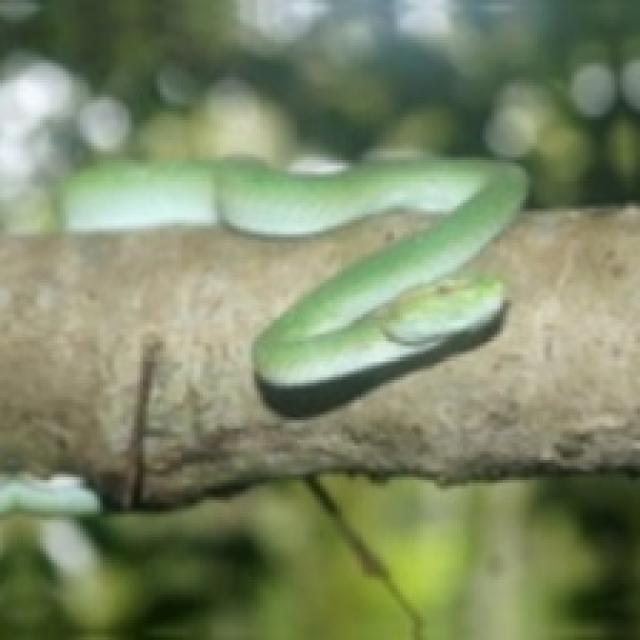north ph temple pitviper: (217, 160, 526, 414)
